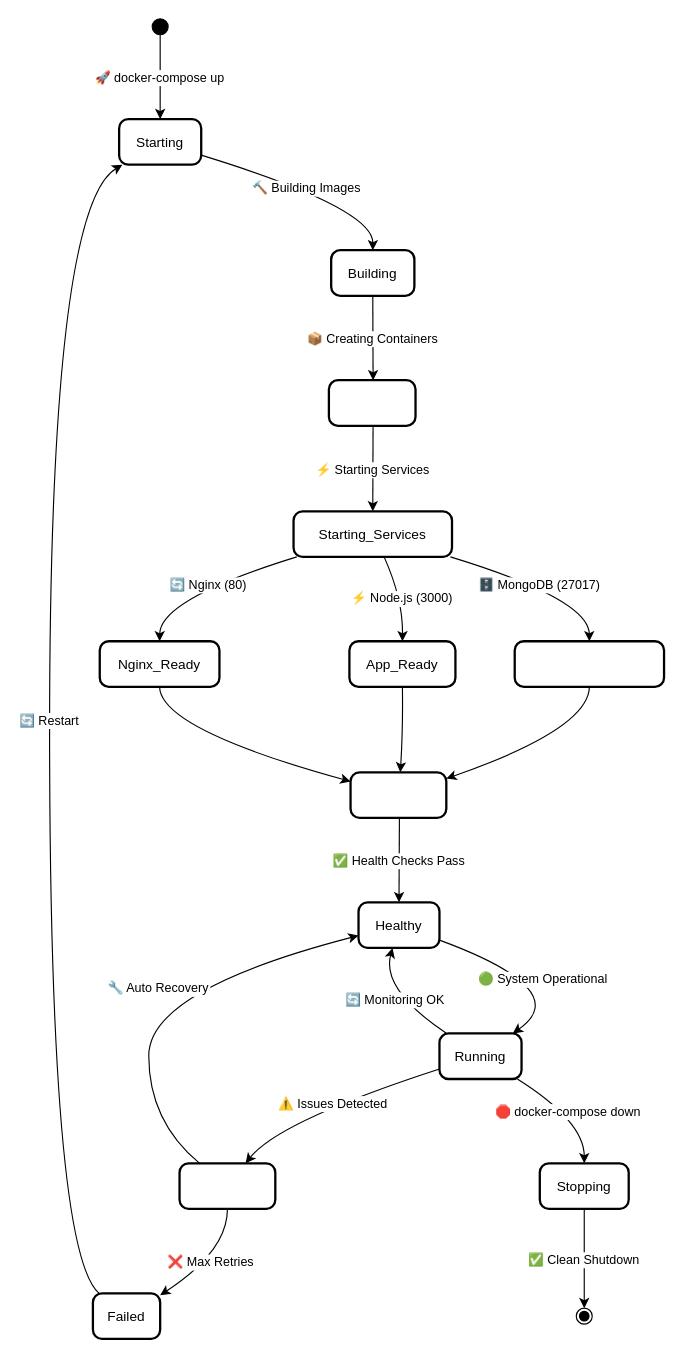
Some shapes in this 683 by 1358 pixel diagram are drawn without their labels. Here are the shapes that lost their labels. From the top down, the box of each, then its label:
(327, 378, 416, 426): Creating
(513, 640, 665, 687): MongoDB_Ready
(349, 771, 447, 819): All_Ready
(178, 1162, 276, 1210): Degraded
